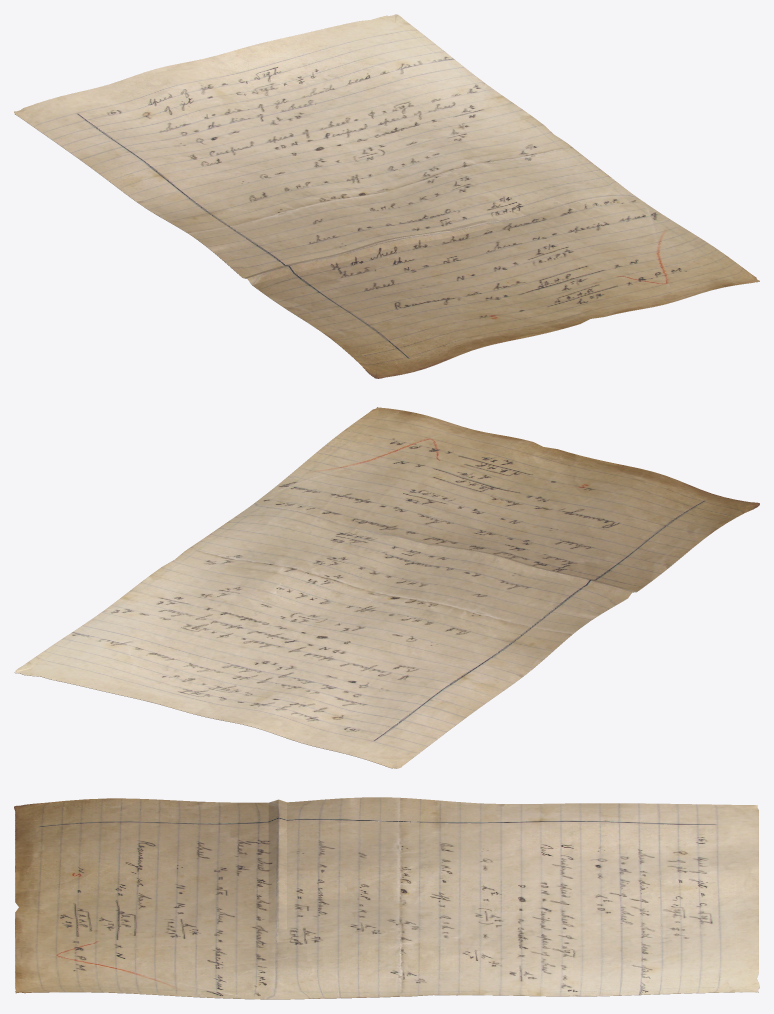
3 views of the same model, one above another, from view 1: azimuth 30°, elevation 25°; view 2: azimuth 150°, elevation 25°; view 3: azimuth 270°, elevation 25° (orthographic). The views are drawn at different scales.
Visible parts, largest first — view 1: 平面.007; view 2: 平面.007; view 3: 平面.007.
Part boxes in pixels (x1,y1,x2,y2): 平面.007: [14, 14, 759, 378]; 平面.007: [14, 407, 759, 768]; 平面.007: [14, 797, 759, 999].
Size of the model in its own units: 10.05 by 0.3068 by 16.5.
